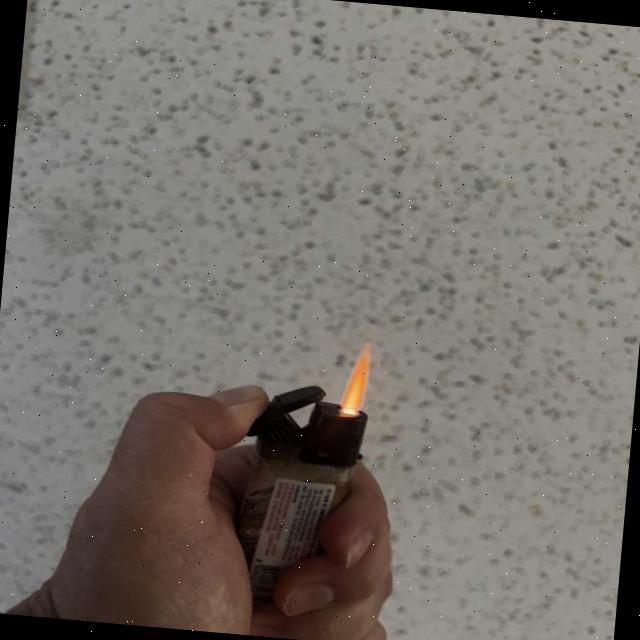fire: (338, 348, 374, 414)
